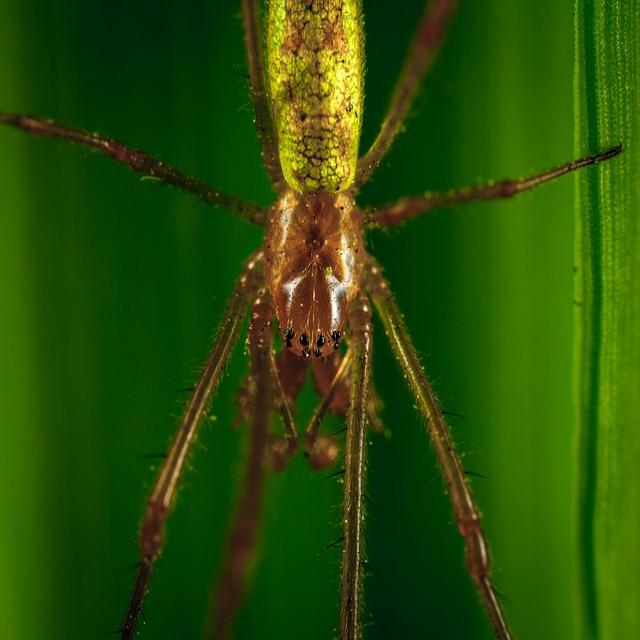spyder: (0, 0, 620, 638)
